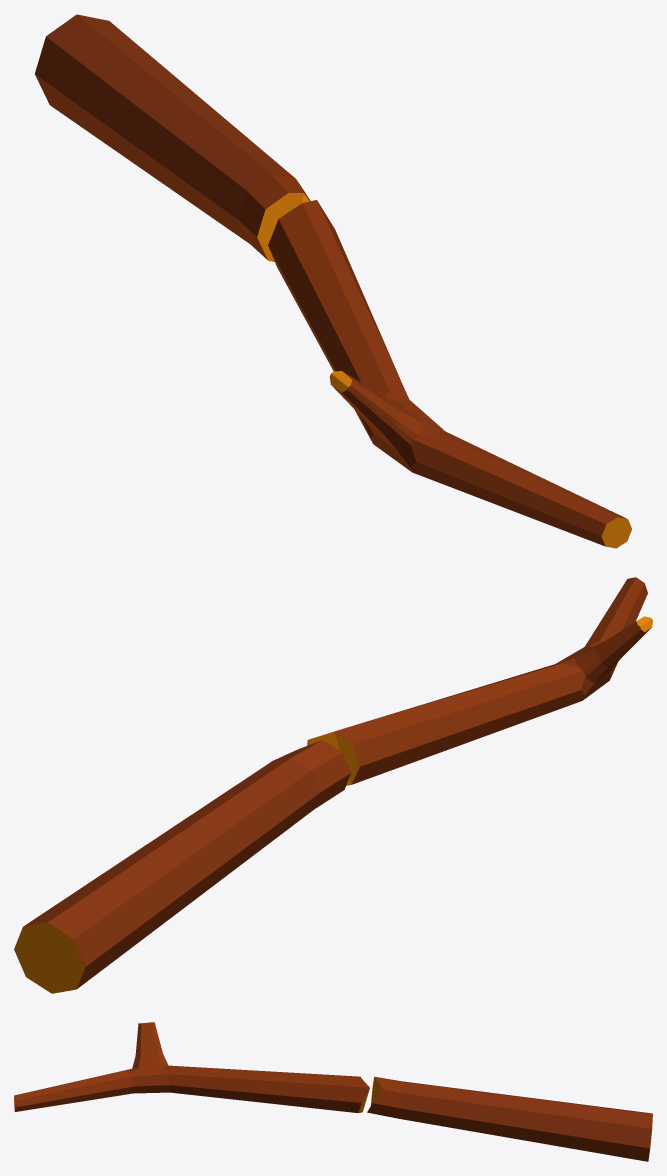
File: Stick_12.fbx
3 renders of one model, top to bottom at view 1: azimuth 30°, elevation 25°; view 2: azimuth 150°, elevation 25°; view 3: azimuth 270°, elevation 25°, orthographic. The views are drawn at different scales.
Parts seen in each view (by area): view 1: Circle.040, Circle.029; view 2: Circle.040, Circle.029; view 3: Circle.040, Circle.029.
Boxes of the visible parts, bbox=[...] form: Circle.040: bbox=[35, 14, 310, 261]; Circle.029: bbox=[268, 200, 631, 548]; Circle.040: bbox=[14, 740, 350, 993]; Circle.029: bbox=[307, 577, 652, 785]; Circle.040: bbox=[367, 1076, 652, 1161]; Circle.029: bbox=[14, 1022, 369, 1112].
Size of the model in its own units: 11.09 by 5.86 by 42.03.
